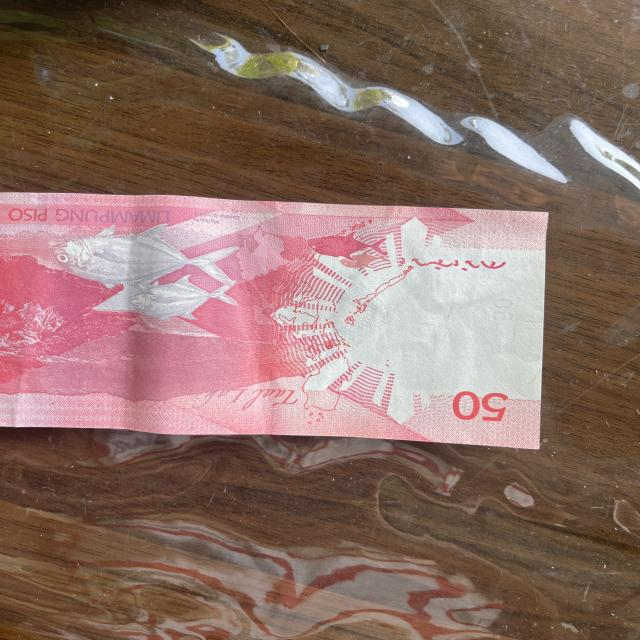50_maliputo: (51, 222, 246, 330)
50_maliputo_watermark: (302, 227, 401, 279)
value_watermark: (483, 292, 524, 329)
watermark: (360, 245, 506, 395)
